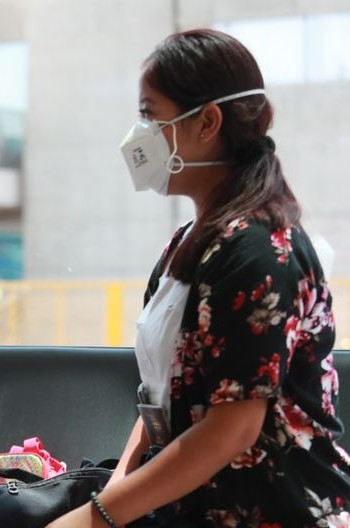with_mask: (122, 58, 263, 210)
